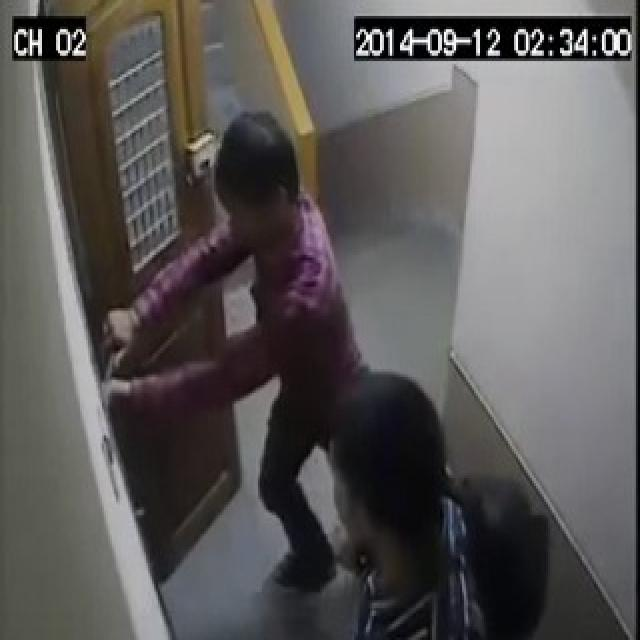thief: (60, 106, 498, 640)
